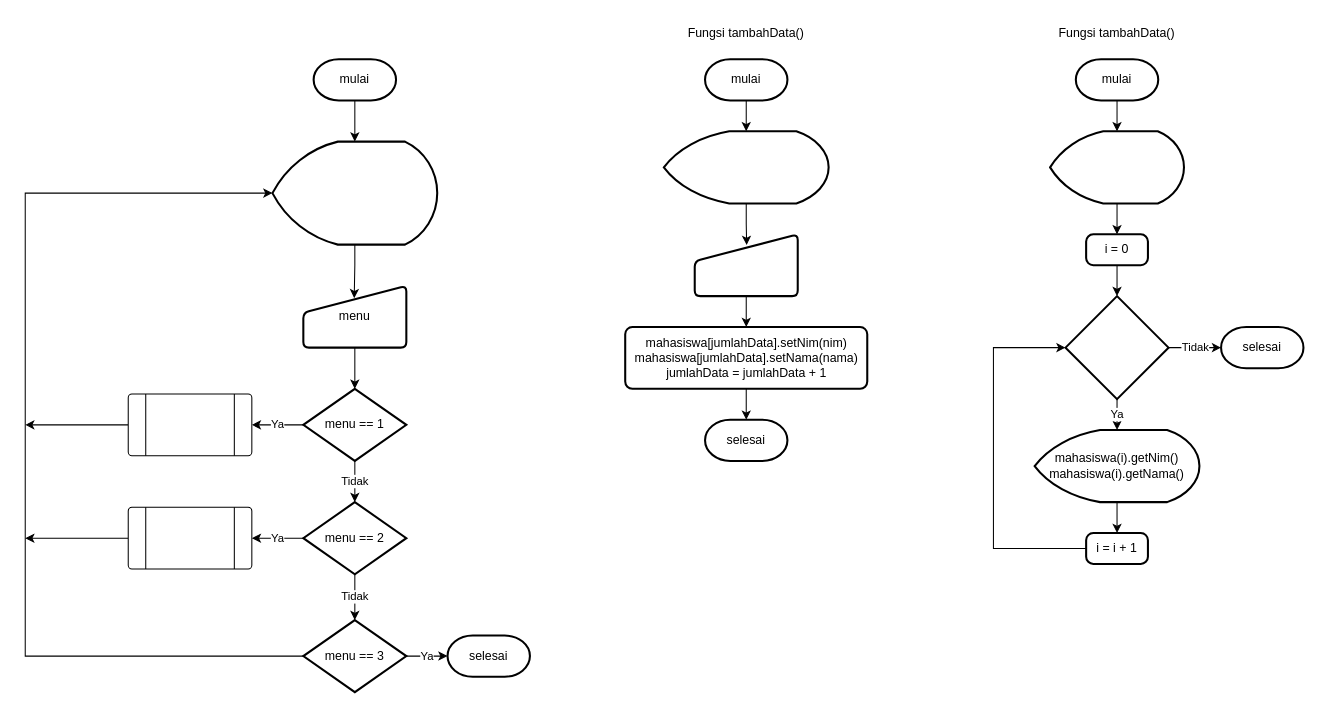
This 1323x711 diagram has some shape labels left out. Each missing label, with the centre of its shape:
"Berikut data Anda": (x=1116, y=167)
"Menu Siakad 1. Tambah Data 2. Lihat Data 3. Keluar Pilih menu = ": (x=354, y=192)
"Silahkan tambah data": (x=745, y=167)
i < jumlahData: (x=1116, y=347)
nim, nama: (x=745, y=265)
tambahData(): (x=189, y=424)
tampilData(): (x=189, y=537)
